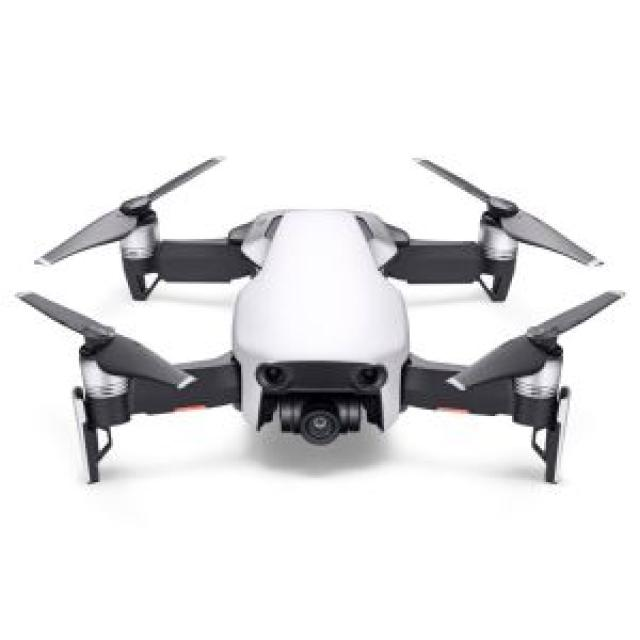drone: (6, 147, 623, 489)
